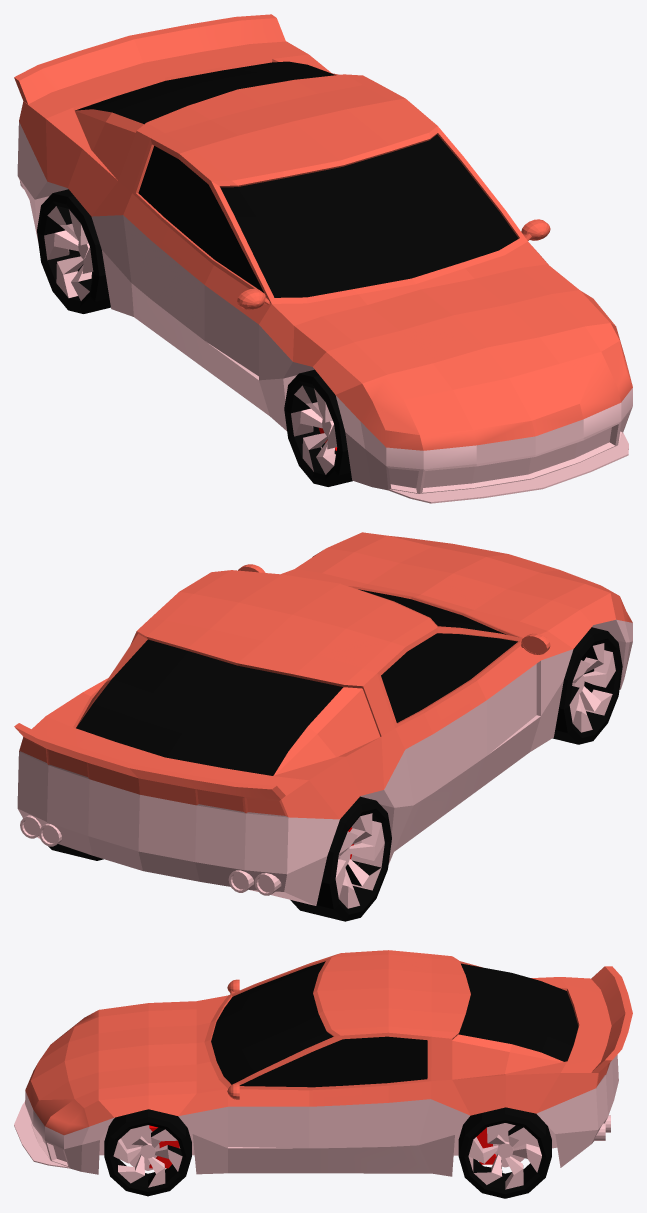
The model's file is LP-car-Test.fbx.
3 renders of one model, top to bottom at view 1: azimuth 30°, elevation 25°; view 2: azimuth 150°, elevation 25°; view 3: azimuth 270°, elevation 25°, orthographic. The views are drawn at different scales.
Parts seen in each view (by area): view 1: Muscle car 2.Body, 5.Wheel.Bk.R, 5.Wheel.Ft.R; view 2: Muscle car 2.Body, 5.Wheel.Bk.R, 5.Wheel.Ft.R; view 3: Muscle car 2.Body, 5.Wheel.Bk.L, 5.Wheel.Ft.L.
Boxes of the visible parts, x1=… form: Muscle car 2.Body: x1=14, y1=14, x2=632, y2=503; 5.Wheel.Bk.R: x1=37, y1=189, x2=110, y2=313; 5.Wheel.Ft.R: x1=284, y1=369, x2=352, y2=486; Muscle car 2.Body: x1=14, y1=532, x2=632, y2=905; 5.Wheel.Bk.R: x1=290, y1=796, x2=391, y2=921; 5.Wheel.Ft.R: x1=552, y1=627, x2=622, y2=744; Muscle car 2.Body: x1=14, y1=950, x2=632, y2=1176; 5.Wheel.Bk.L: x1=458, y1=1107, x2=551, y2=1198; 5.Wheel.Ft.L: x1=104, y1=1109, x2=191, y2=1196.
Bounding box in the file's own units: 135 × 87.69 × 313.
